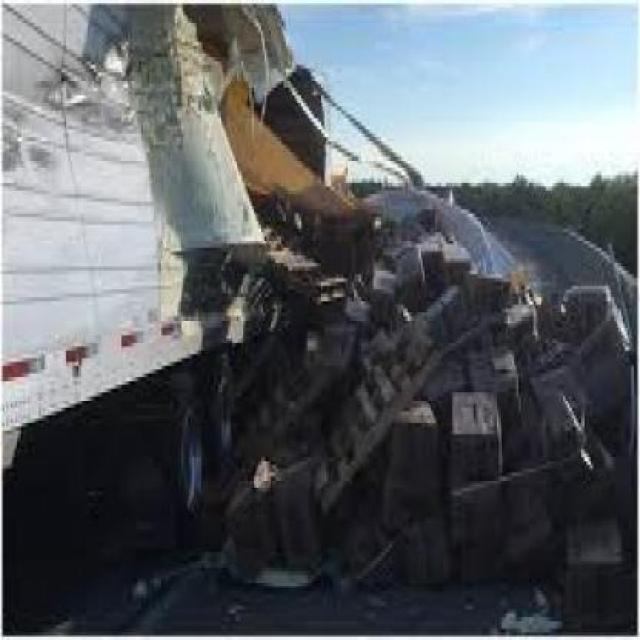accident: (6, 5, 640, 572)
